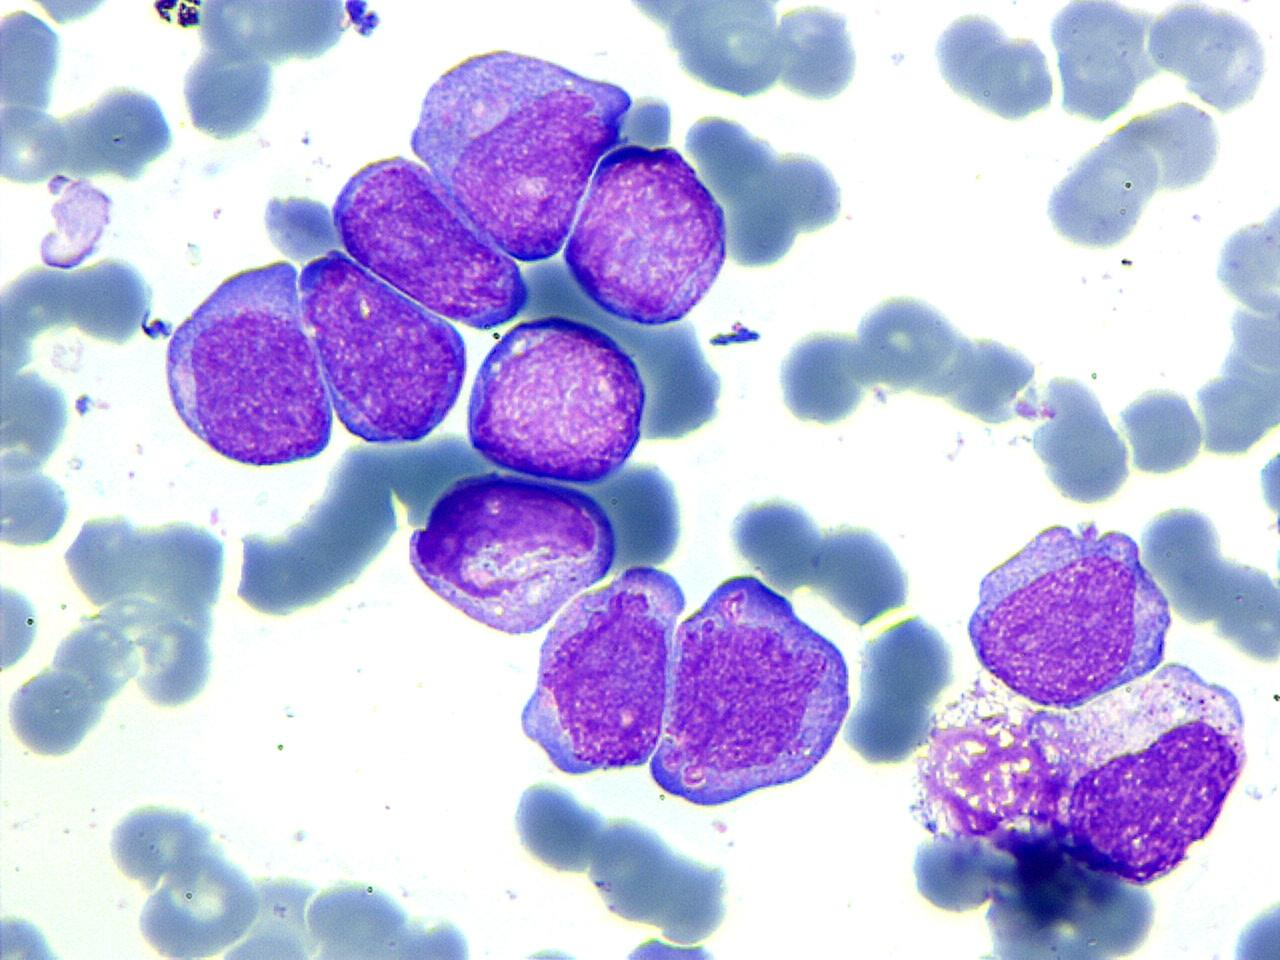Platelets: (722, 489, 828, 584), (259, 188, 340, 261), (1226, 888, 1280, 958), (25, 0, 119, 27), (1254, 439, 1280, 530), (705, 321, 763, 349), (514, 940, 583, 960), (350, 5, 381, 38), (142, 315, 174, 342), (73, 390, 97, 419), (197, 158, 223, 180)
RBC: (663, 1, 786, 102), (1, 95, 71, 187), (1, 570, 44, 694)
WBC: (889, 532, 1265, 956), (873, 0, 1279, 240), (0, 480, 237, 772), (637, 566, 862, 820), (403, 31, 645, 264), (960, 512, 1173, 712), (105, 857, 502, 960), (155, 256, 337, 471), (328, 146, 531, 334), (402, 466, 618, 642), (512, 562, 684, 780), (575, 0, 892, 114), (558, 131, 736, 330), (298, 246, 468, 453), (460, 310, 652, 489), (150, 0, 374, 152), (99, 793, 274, 958), (1191, 180, 1280, 474), (841, 602, 959, 770), (278, 872, 484, 958), (927, 4, 1065, 130), (1039, 125, 1161, 260), (1043, 1, 1169, 124), (1027, 368, 1133, 508), (181, 1, 368, 68), (178, 28, 284, 146), (774, 322, 874, 430), (508, 774, 606, 876), (1211, 191, 1279, 334), (30, 170, 122, 274), (774, 0, 862, 108), (1118, 378, 1206, 478), (0, 452, 76, 550), (0, 902, 95, 960), (1, 566, 44, 691), (1226, 888, 1280, 960), (1254, 425, 1280, 540)
